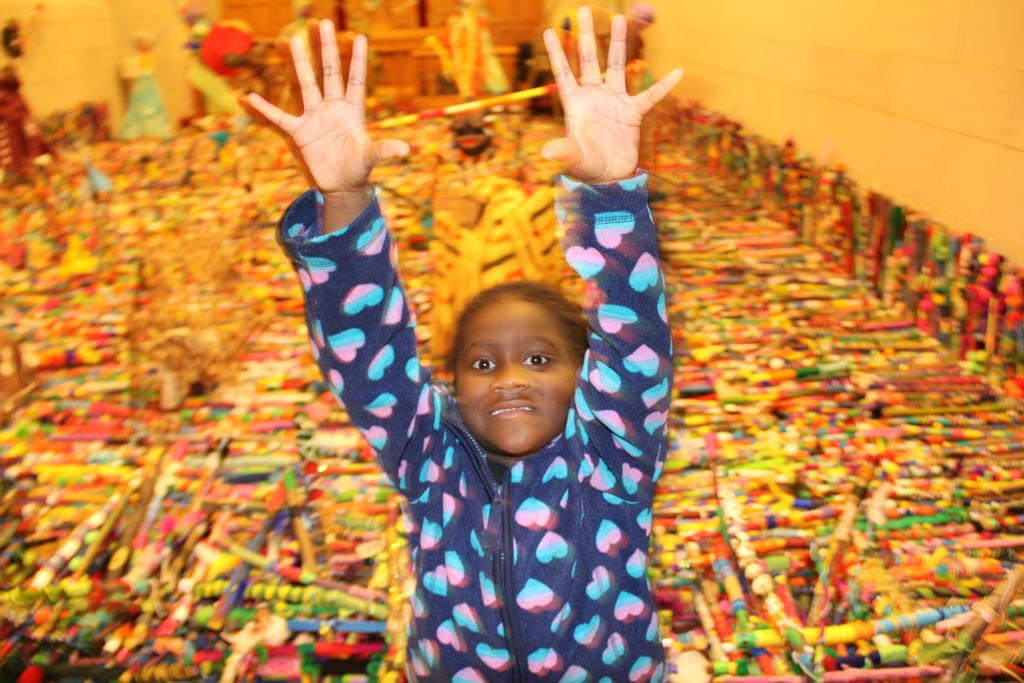Sem Máscara: (453, 299, 570, 443)
